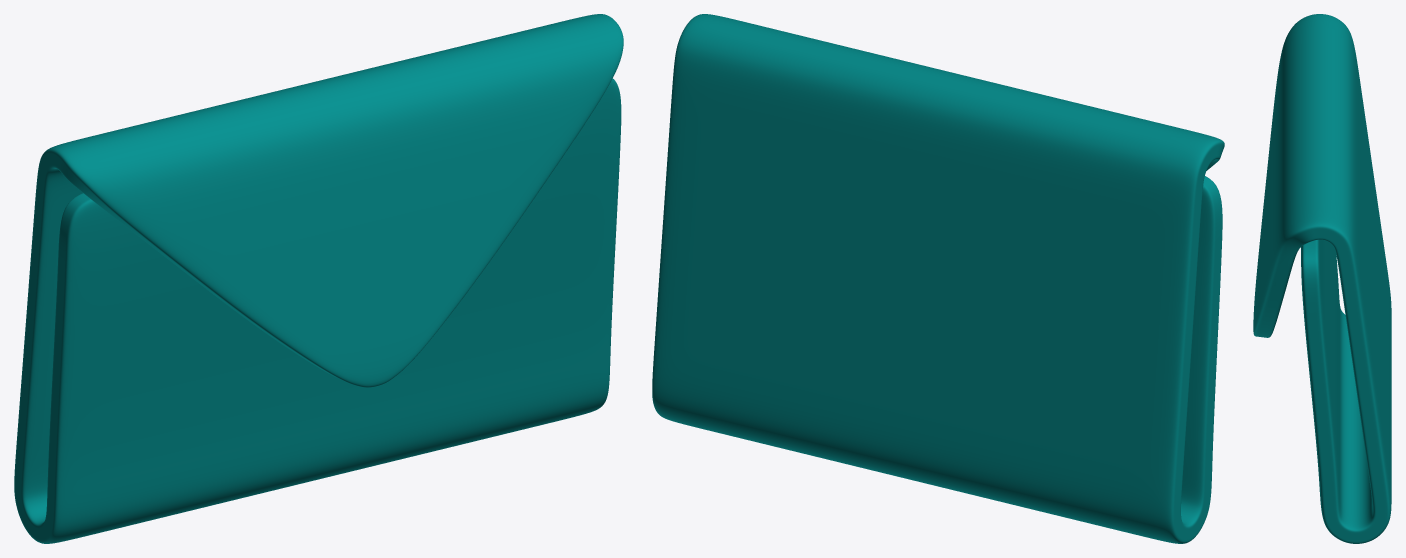
File: mail.gltf
3 renders of one model, left to right at view 1: azimuth 30°, elevation 25°; view 2: azimuth 150°, elevation 25°; view 3: azimuth 270°, elevation 25°, orthographic. The views are drawn at different scales.
Visible parts, largest first — view 1: Mail; view 2: Mail; view 3: Mail.
Boxes of the visible parts, left/top/right/bottom form: Mail: left=14, top=14, right=623, bottom=543; Mail: left=652, top=14, right=1224, bottom=543; Mail: left=1253, top=14, right=1391, bottom=543.
Size of the model in its own units: 1.96 by 1.38 by 0.5382.
